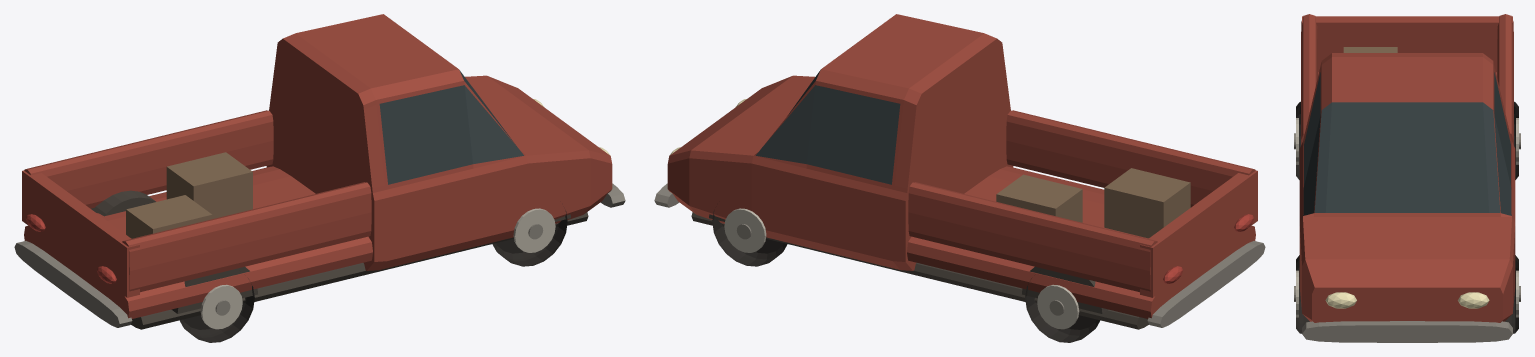
The model's file is pikap-kiremit.glb.
3 views of the same model, side by side, from view 1: azimuth 30°, elevation 25°; view 2: azimuth 150°, elevation 25°; view 3: azimuth 270°, elevation 25° (orthographic).
Parts seen in each view (by area): view 1: a_kiremit, cam, ahsap, ic, tampon, jant, lastik, stop; view 2: a_kiremit, cam, ahsap, tampon, ic, jant, lastik, stop; view 3: a_kiremit, cam, tampon, lastik, far, jant, ahsap.
Part boxes in pixels (x1,y1,x2,y2): a_kiremit: (22,14,612,318); cam: (379,70,523,184); ahsap: (126,152,252,238); ic: (91,190,588,329); tampon: (14,183,625,327); jant: (200,208,555,329); lastik: (179,210,567,342); stop: (26,214,116,283); a_kiremit: (667,14,1257,318); cam: (756,70,900,184); ahsap: (996,168,1190,238); tampon: (654,183,1265,327); ic: (691,212,1148,329); jant: (724,208,1079,329); lastik: (712,210,1100,342); stop: (1163,214,1253,283); a_kiremit: (1299,14,1515,322); cam: (1303,72,1511,215); tampon: (1294,133,1520,342); lastik: (1296,101,1518,333); far: (1325,292,1489,308); jant: (1296,118,1518,317); ahsap: (1343,47,1397,52).
Size of the model in its own units: 4.8 by 1.82 by 1.85.
